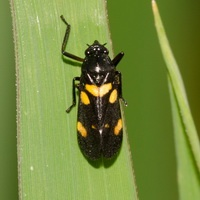insect: (60, 15, 123, 159)
